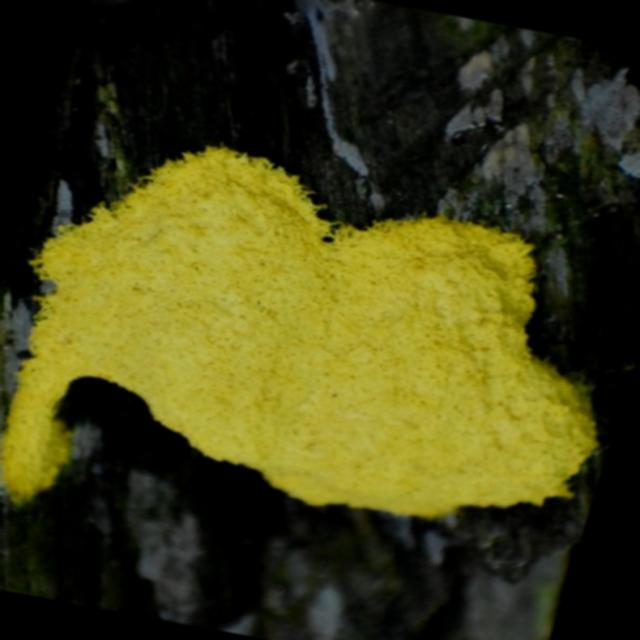Dog_vomit_slime_mold: (0, 124, 605, 580)
